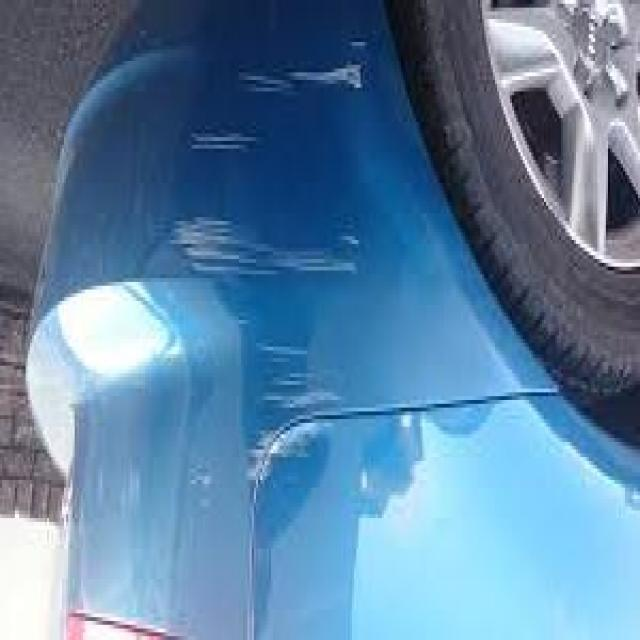scratch: (150, 21, 383, 562)
